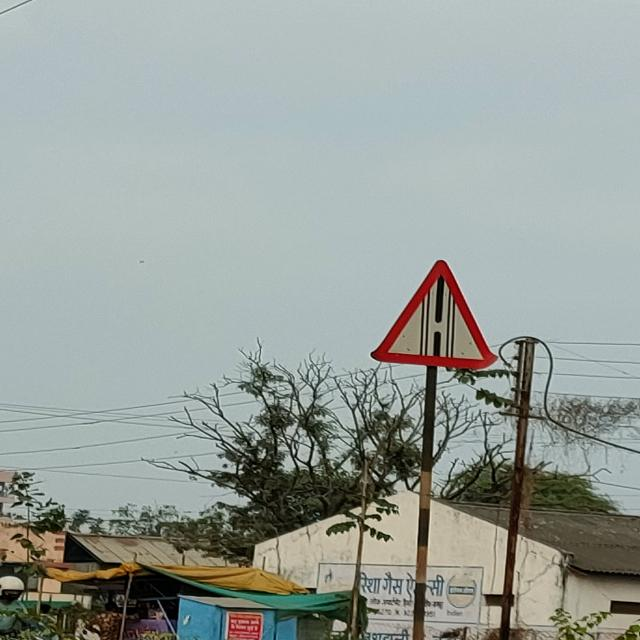GAP_IN_MEDIAN: (369, 260, 497, 369)
